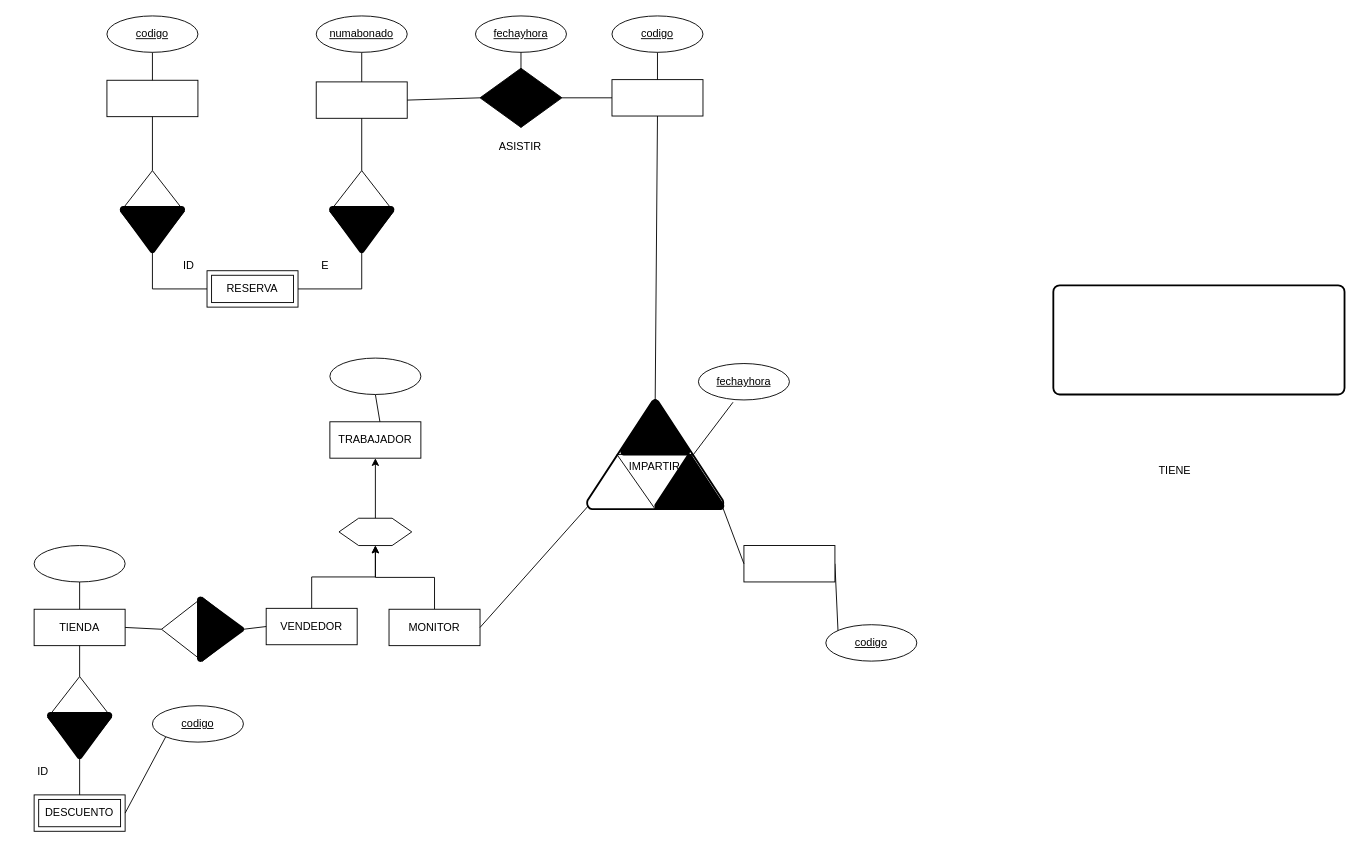
Some shapes in this 1360 by 847 pixel diagram are drawn without their labels. Here are the shapes that lost their labels. From the top down, the box of each, then its label:
(106, 79, 198, 117): PISTA
(315, 81, 407, 118): ABONADO
(611, 79, 703, 116): CLASES
(329, 357, 421, 394): dni
(338, 517, 412, 546): P.S
(33, 545, 125, 582): cif
(743, 545, 835, 582): SALA
